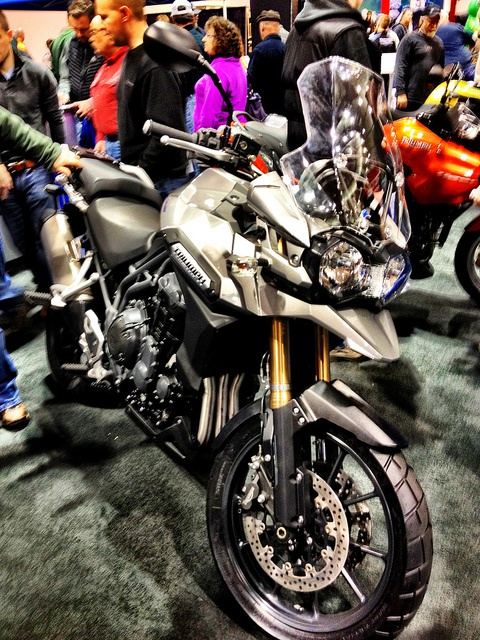non-vehicle: (15, 15, 432, 632), (396, 80, 480, 249)
